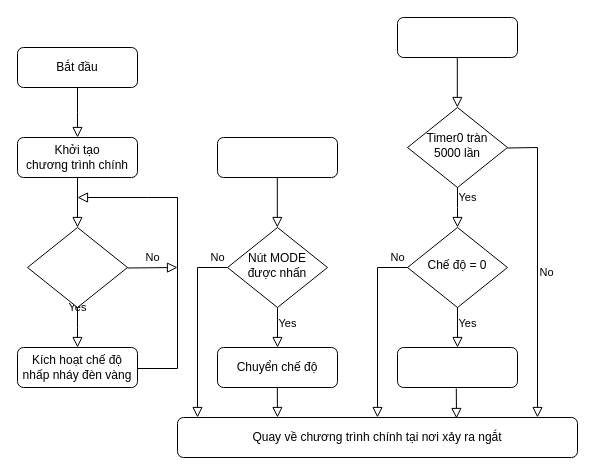
Image size: 595x475. Some labels were removed from this diagram. The shapes that lost their labels are listed below. From the top down, each one's centre as x and y in pixels, then its label:
At (457,37): "Ngắt Timer0".
At (277,157): "Ngắt INT0".
At (77,267): "Chế độ = 1".
At (457,367): "Kích hoạt chế độ đèn xanh đèn đỏ".
